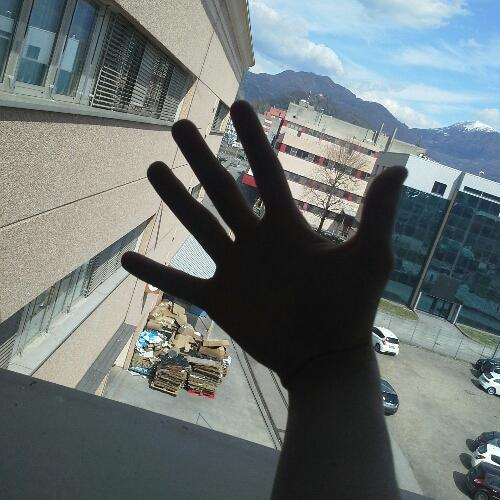paper: (113, 96, 414, 396)
